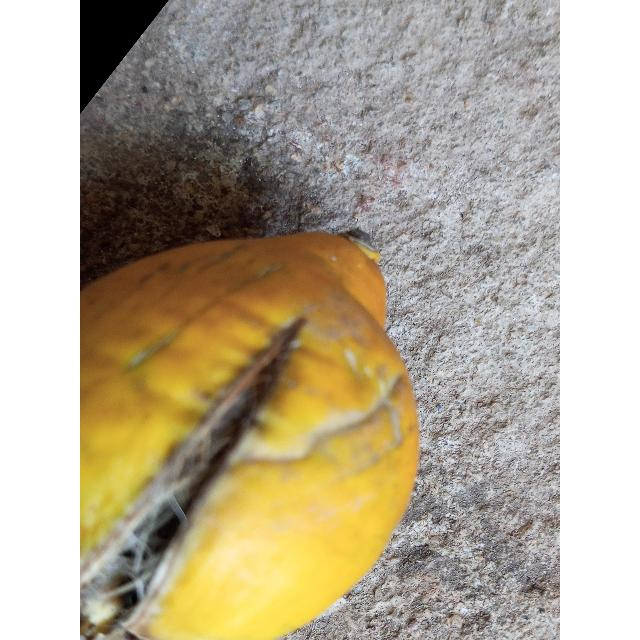damaged: (80, 232, 421, 640)
